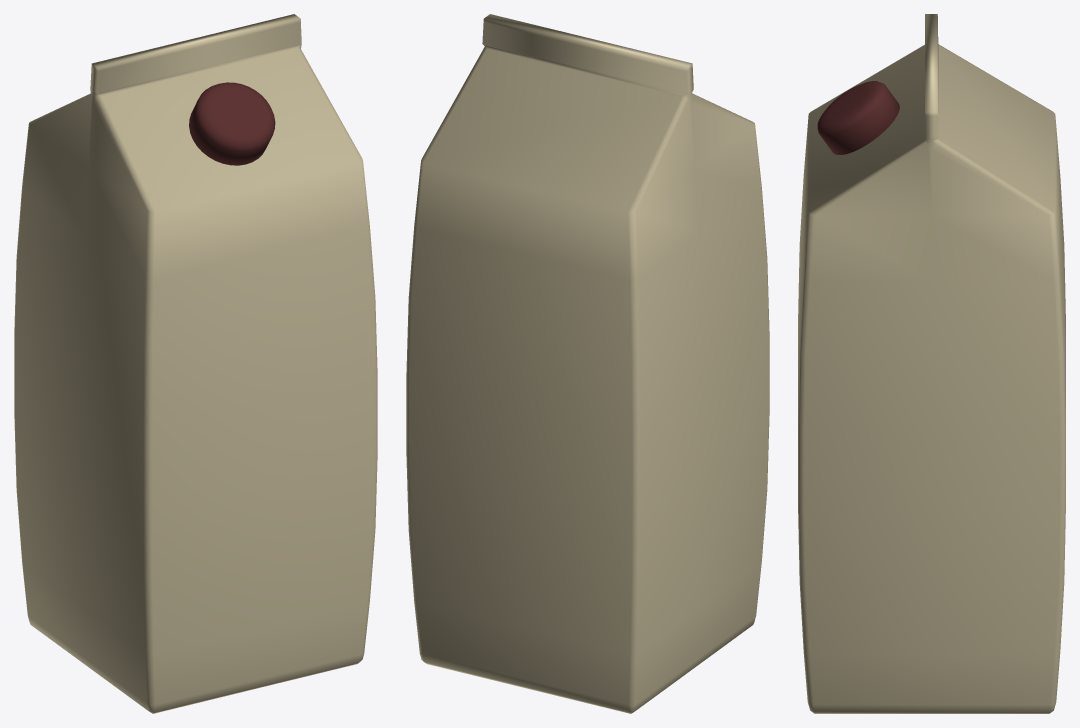
Rendered from TetraPak.fbx.
3 renders of one model, left to right at view 1: azimuth 30°, elevation 25°; view 2: azimuth 150°, elevation 25°; view 3: azimuth 270°, elevation 25°, orthographic.
Parts seen in each view (by area): view 1: Tetrapak; view 2: Tetrapak; view 3: Tetrapak.
Part boxes in pixels (x1,y1,x2,y2): Tetrapak: [14, 14, 377, 713]; Tetrapak: [406, 14, 769, 713]; Tetrapak: [798, 14, 1065, 713].
Size of the model in its own units: 72.55 by 180 by 72.55.
